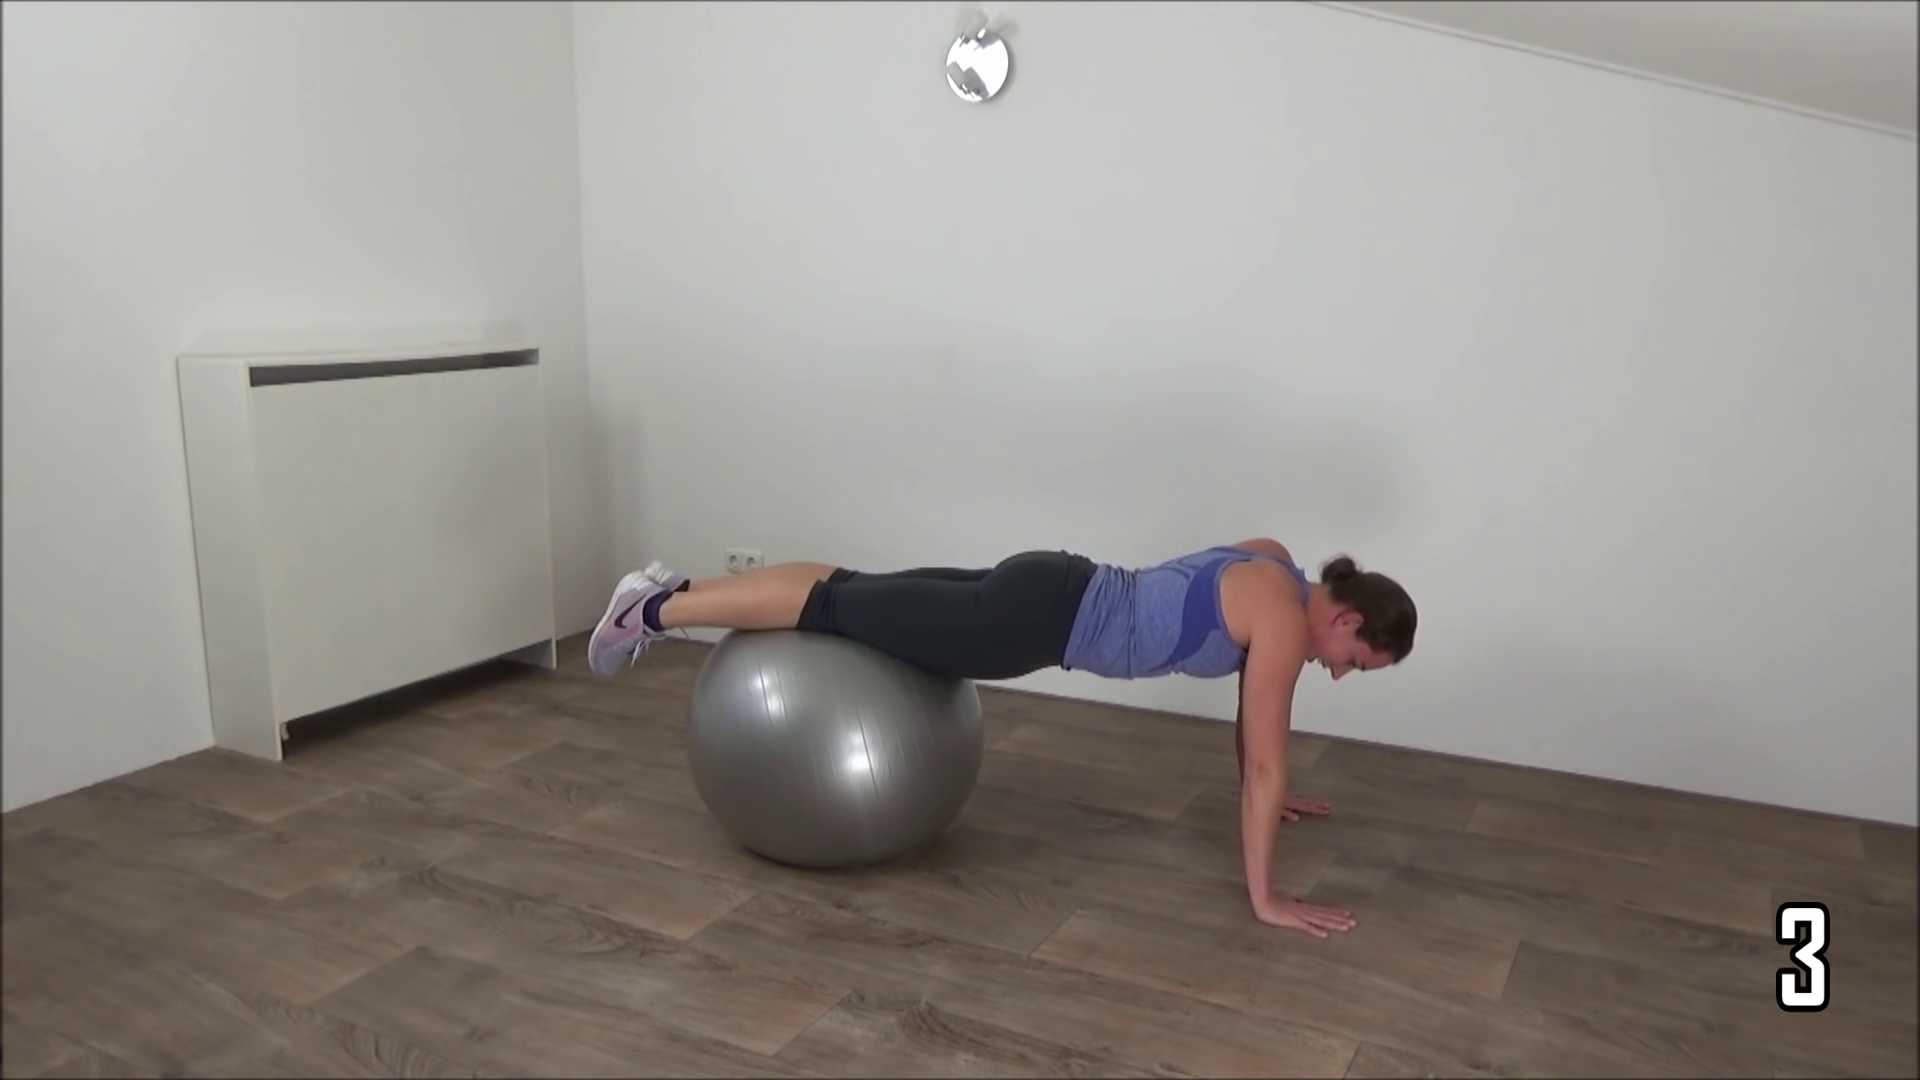yogaball: (662, 615, 1011, 887)
